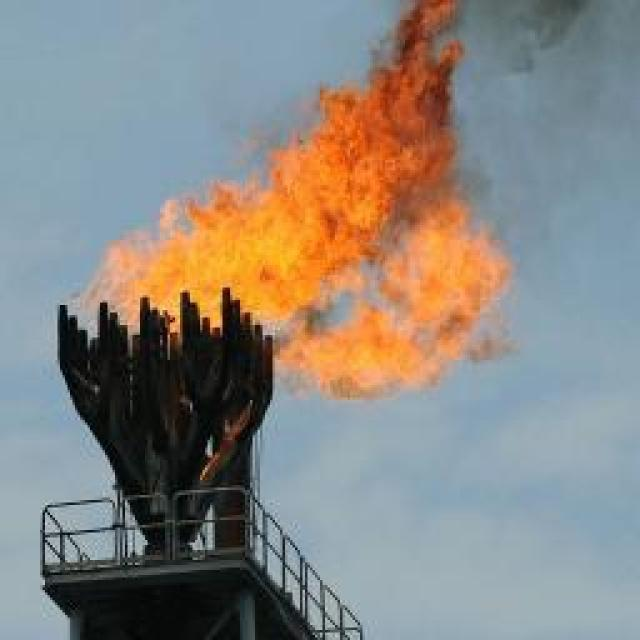fire: (66, 0, 507, 409)
smoke: (430, 0, 640, 364), (226, 3, 405, 173)
